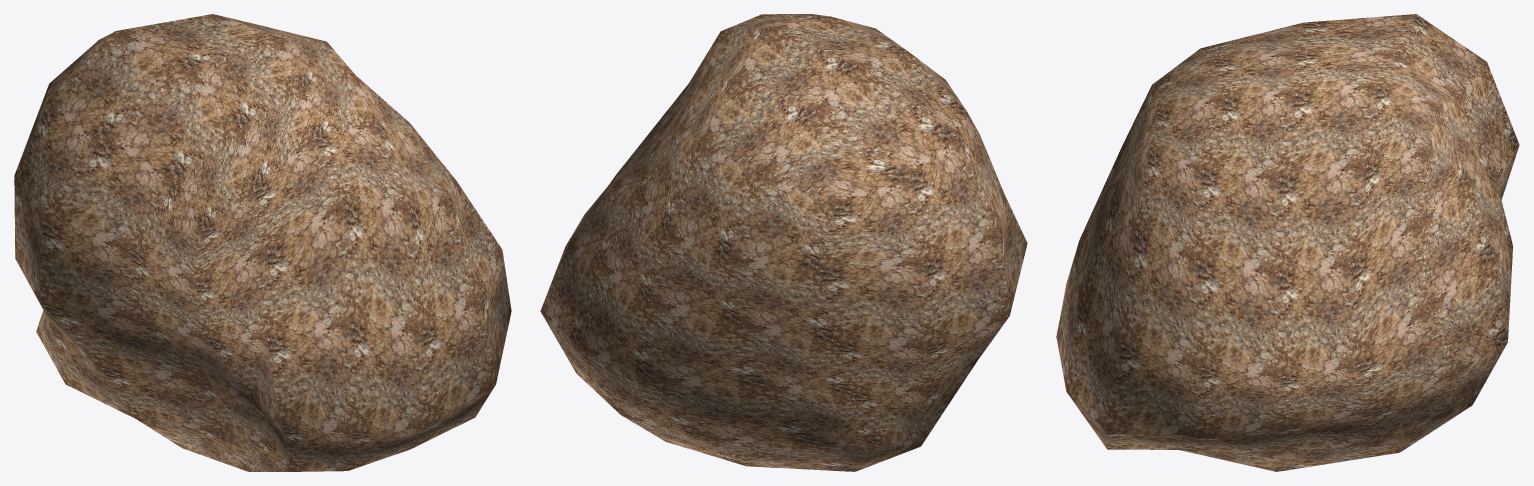
The model's file is asteroid.dae.
The picture shows the model from 3 angles, left to right: view 1: azimuth 30°, elevation 25°; view 2: azimuth 150°, elevation 25°; view 3: azimuth 270°, elevation 25°; orthographic projection. The views are drawn at different scales.
Parts seen in each view (by area): view 1: Cube; view 2: Cube; view 3: Cube.
Part boxes in pixels (left/top/right/bottom): Cube: left=14, top=14, right=511, bottom=471; Cube: left=540, top=14, right=1027, bottom=471; Cube: left=1056, top=14, right=1519, bottom=471.
Size of the model in its own units: 2.95 by 2.74 by 2.64.
